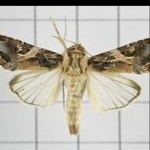Spodoptera litura: (0, 13, 149, 134)
